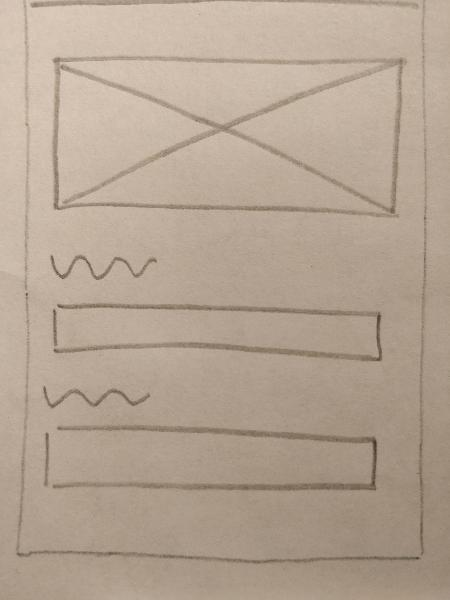image: (46, 50, 410, 221)
text: (43, 245, 160, 286), (39, 372, 156, 413)
text_input: (38, 421, 380, 496), (47, 299, 390, 366)
